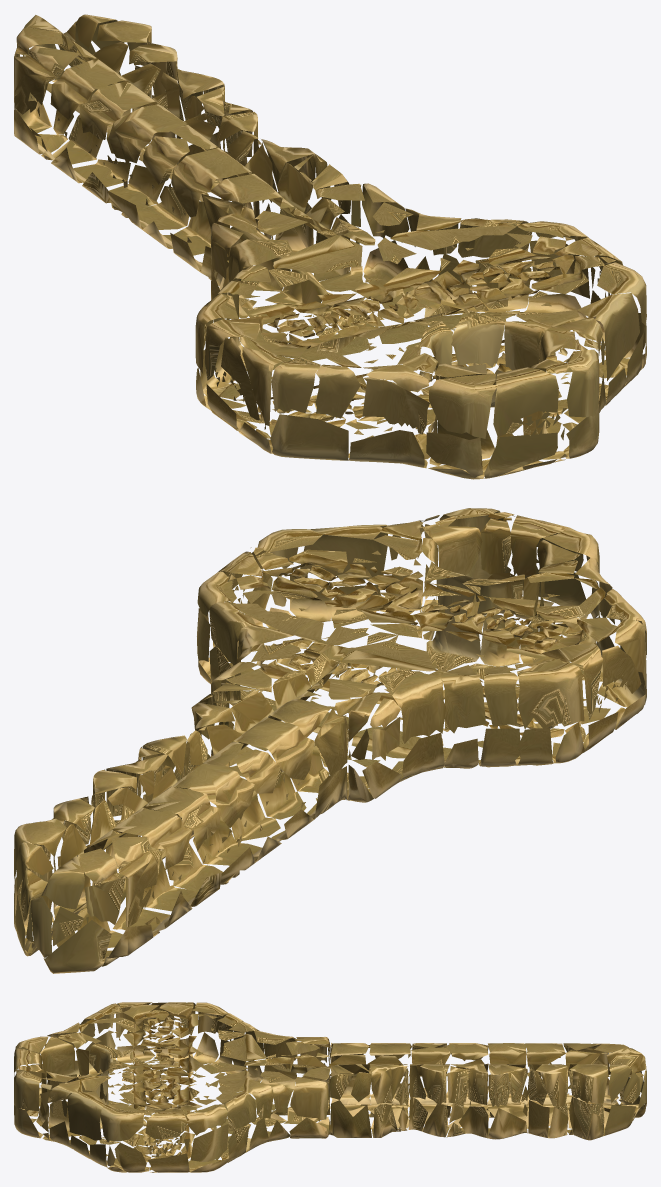
Rendered from key.obj.
The picture shows the model from 3 angles, top to bottom: view 1: azimuth 30°, elevation 25°; view 2: azimuth 150°, elevation 25°; view 3: azimuth 270°, elevation 25°; orthographic projection. The views are drawn at different scales.
Visible parts, largest first — view 1: key; view 2: key; view 3: key.
Part boxes in pixels (box(x1,y1,x2,y2)): key: box(14, 14, 646, 479); key: box(14, 508, 646, 973); key: box(14, 1002, 646, 1172).
Bounding box in the file's own units: 0.0404 × 0.0103 × 0.0914.
1 material, 1 textured.
